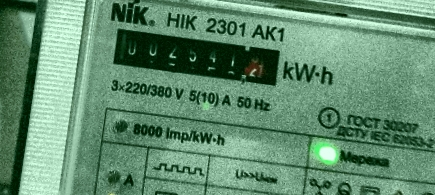0: (124, 34, 140, 57), (145, 35, 160, 58)
1: (225, 45, 239, 69)
2: (165, 37, 182, 61)
4: (205, 42, 219, 65)
5: (184, 40, 200, 65)
6: (246, 64, 259, 77)
screen: (98, 15, 293, 96)
